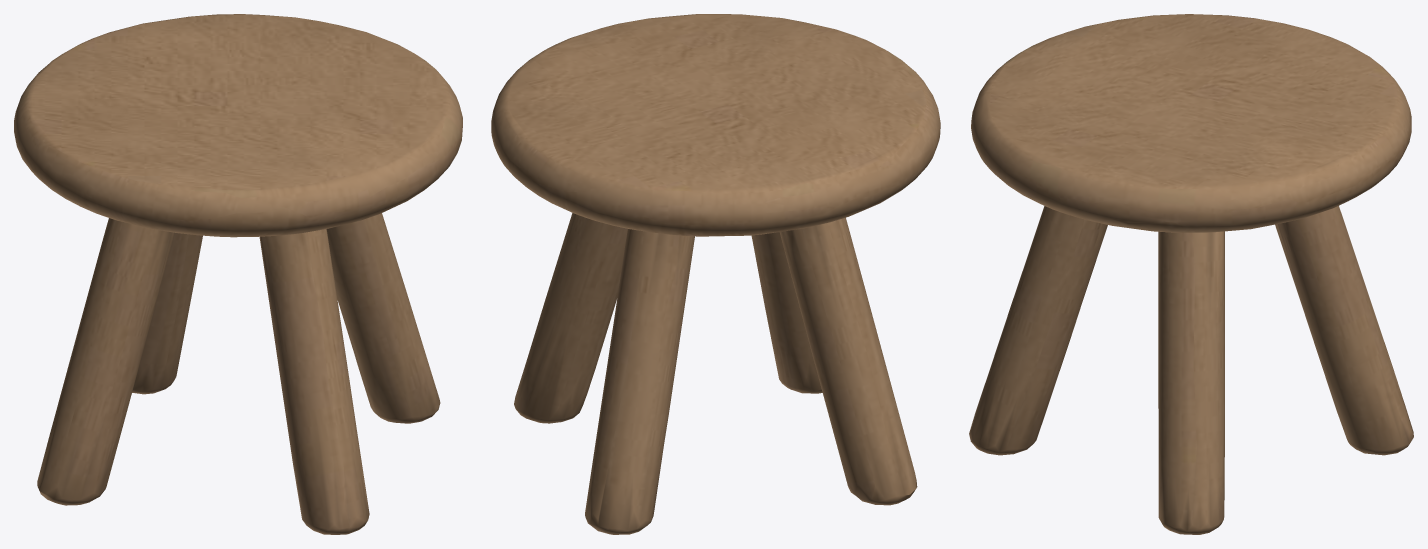
The model's file is stool.glb.
3 renders of one model, left to right at view 1: azimuth 30°, elevation 25°; view 2: azimuth 150°, elevation 25°; view 3: azimuth 270°, elevation 25°, orthographic. The views are drawn at different scales.
Visible parts, largest first — view 1: stool; view 2: stool; view 3: stool.
Boxes of the visible parts, x1,y1,x2,y2 form: stool: (14,14,462,534); stool: (491,14,940,534); stool: (969,14,1413,534).
Bounding box in the file's own units: 0.5255 × 0.45 × 0.5265.
Materials: 1 (1 with a texture image).
